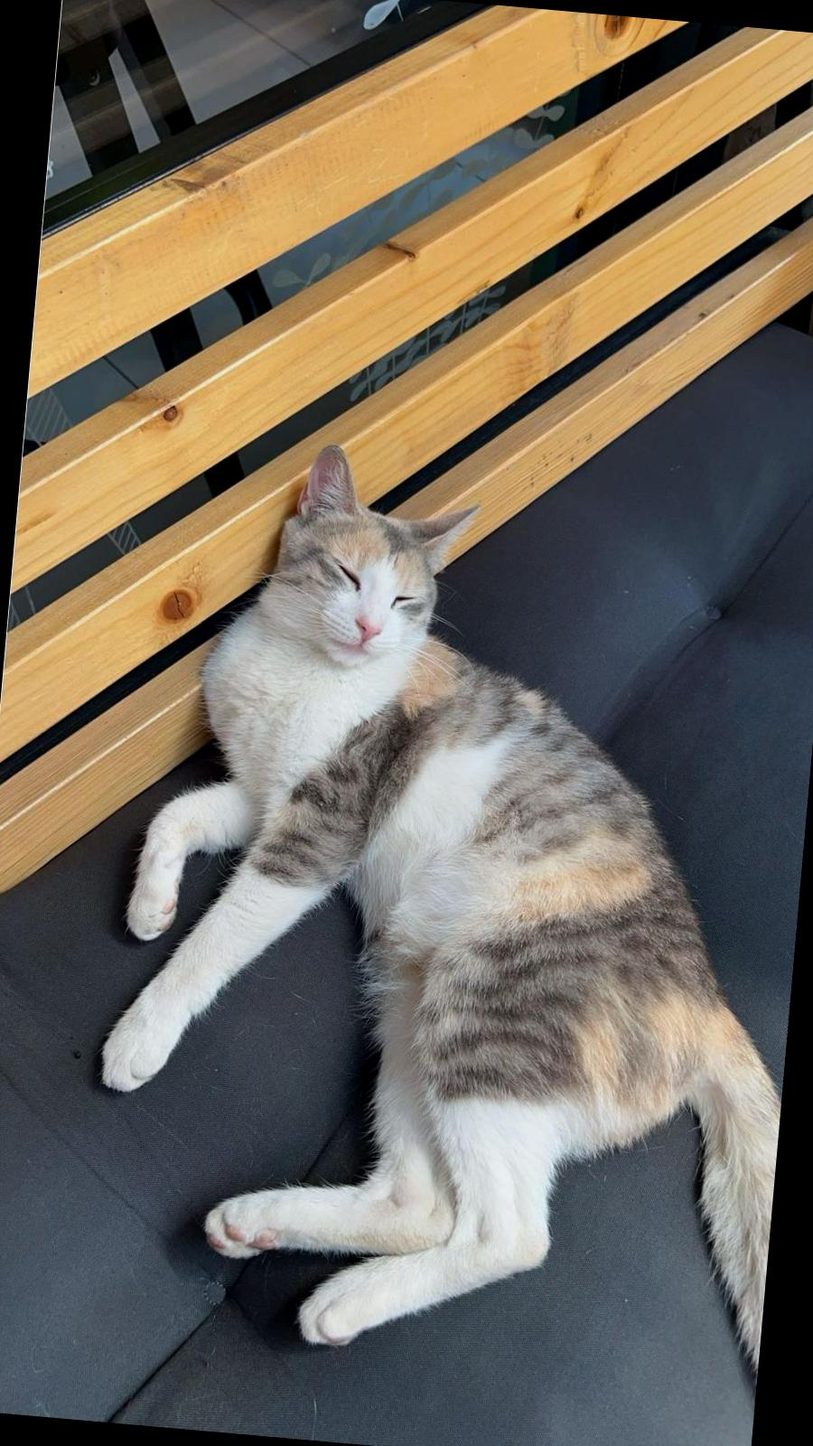macka: (78, 427, 813, 1385)
